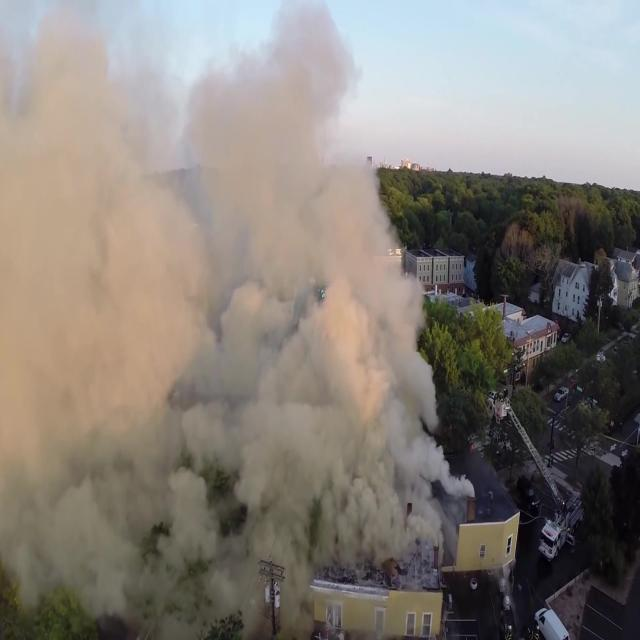Smoke: (2, 0, 474, 640)
